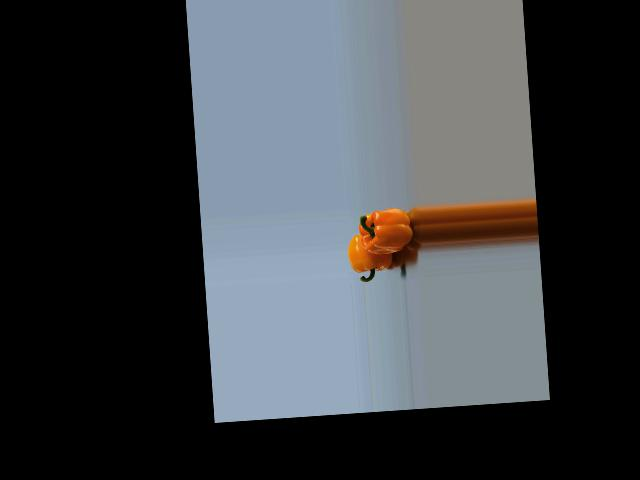bell_pepper: (346, 230, 401, 282)
